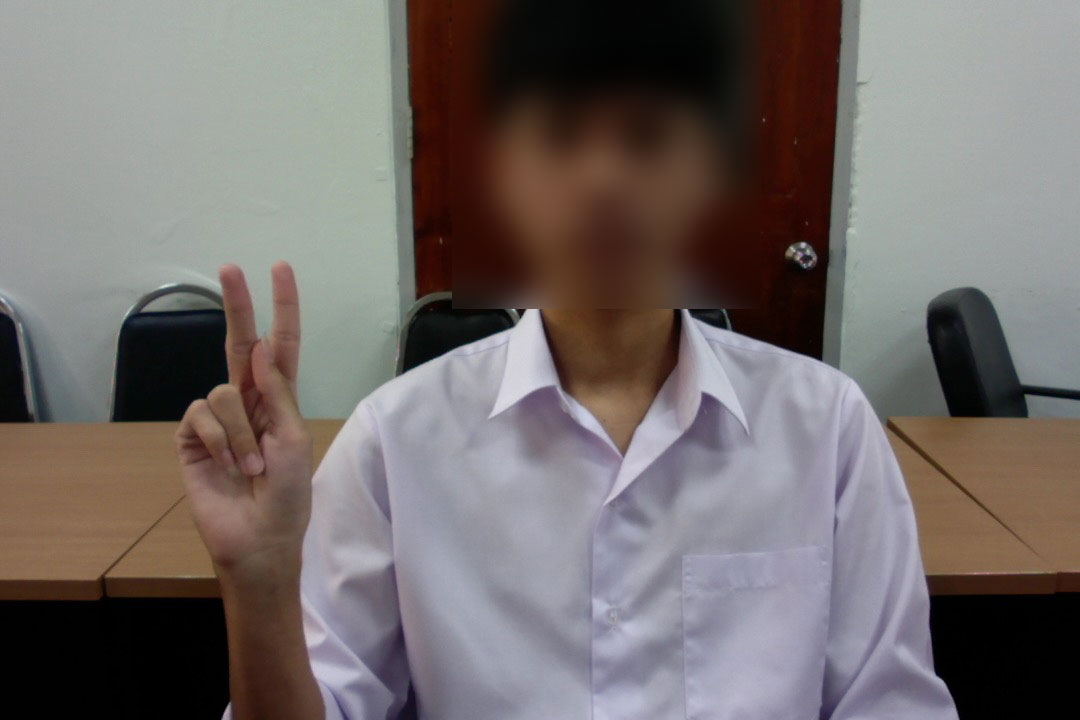ko: (158, 236, 336, 579)
